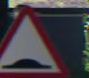Speed Breaker ahead: (1, 5, 65, 77)
